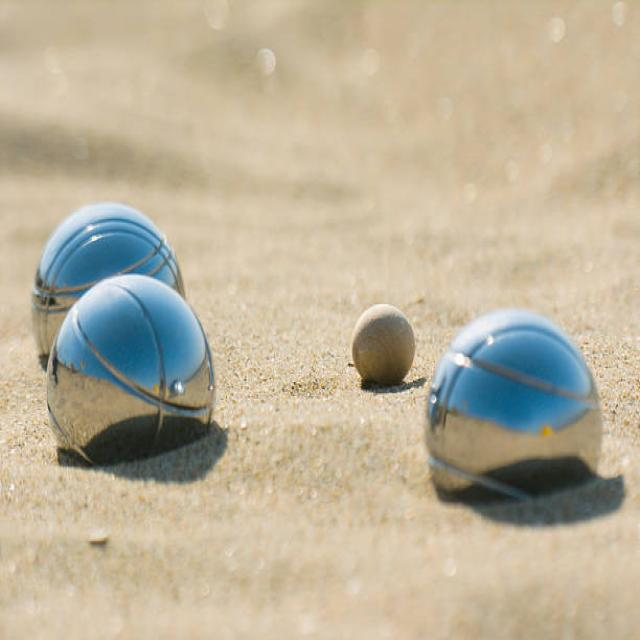hatball: (343, 297, 422, 397)
petanque: (413, 303, 607, 521), (34, 269, 221, 489), (28, 197, 189, 385)
